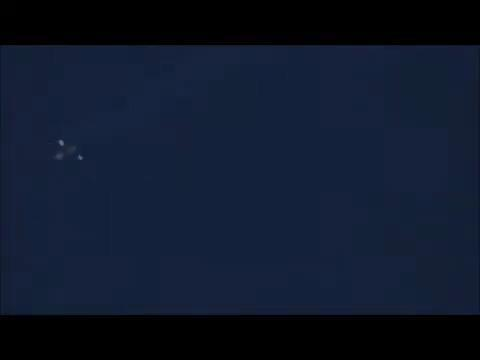Plane: (28, 128, 103, 172)
